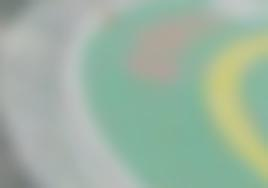Apron: (193, 27, 268, 183)
